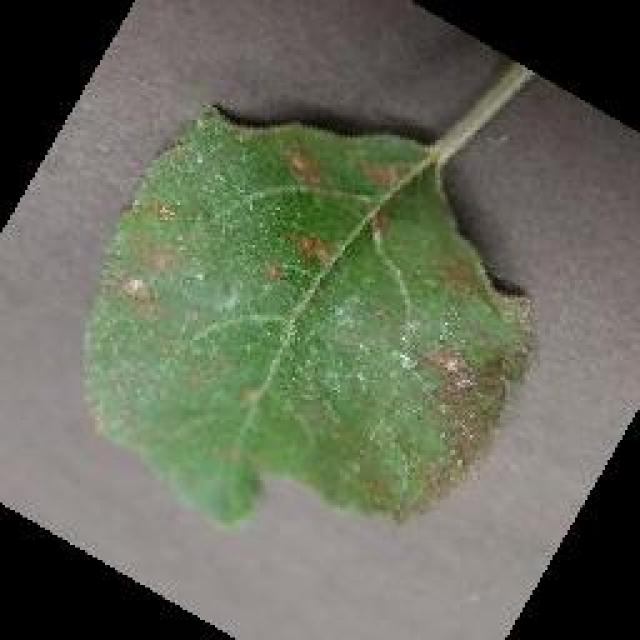apple healthy: (78, 100, 538, 528)
